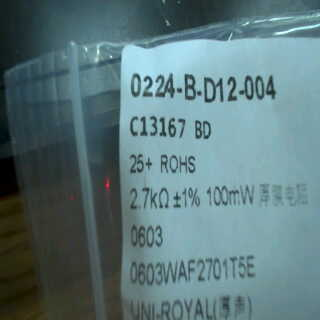2.7kR: (127, 180, 170, 215)
